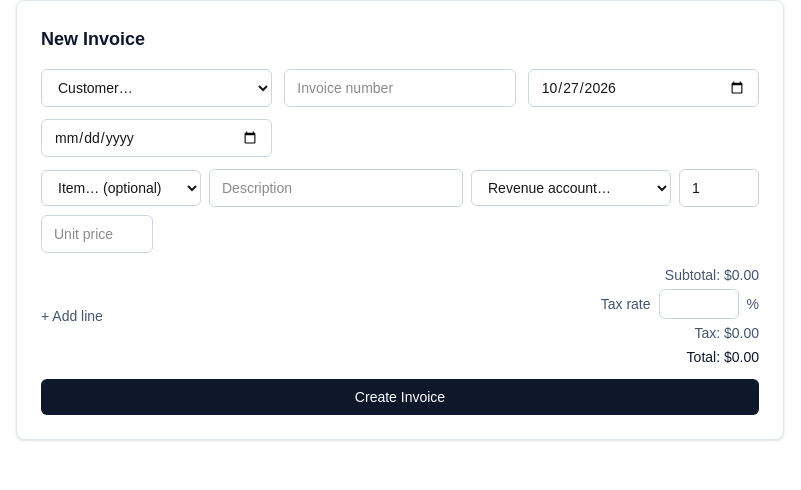
Scenario: InvoiceForm › requires at least one line with an account selected
Step 1. Select "Acme Co" in the 1st dropdown → {"x": 157, "y": 88}, box x1=41 y1=69 x2=272 y2=107
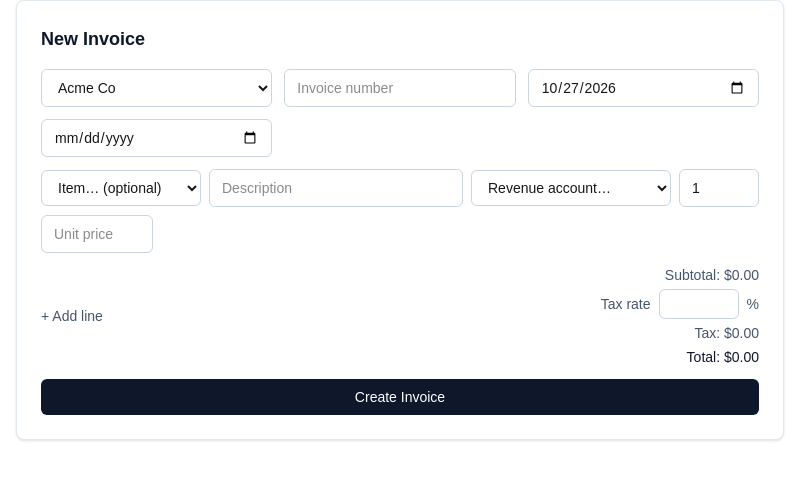
Step 2. Type "INV-1" into the field with placeholder "Invoice number" → {"x": 400, "y": 88}, box x1=284 y1=69 x2=516 y2=107
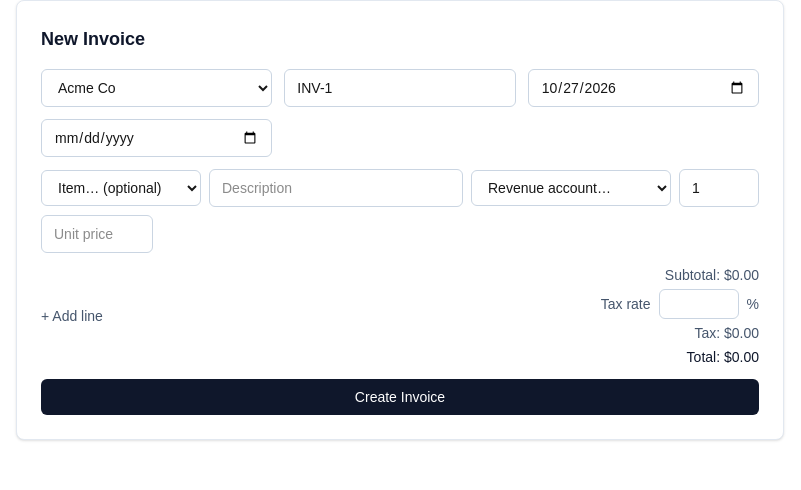
Step 3. Click the button "Create Invoice" → {"x": 400, "y": 397}, box x1=41 y1=379 x2=759 y2=415
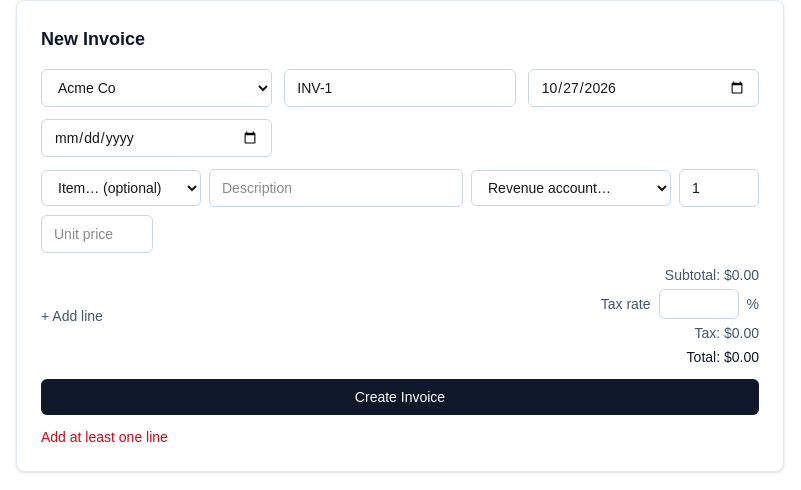
Expected: the text "Add at least one line" is shown, x1=41 y1=429 x2=168 y2=445
